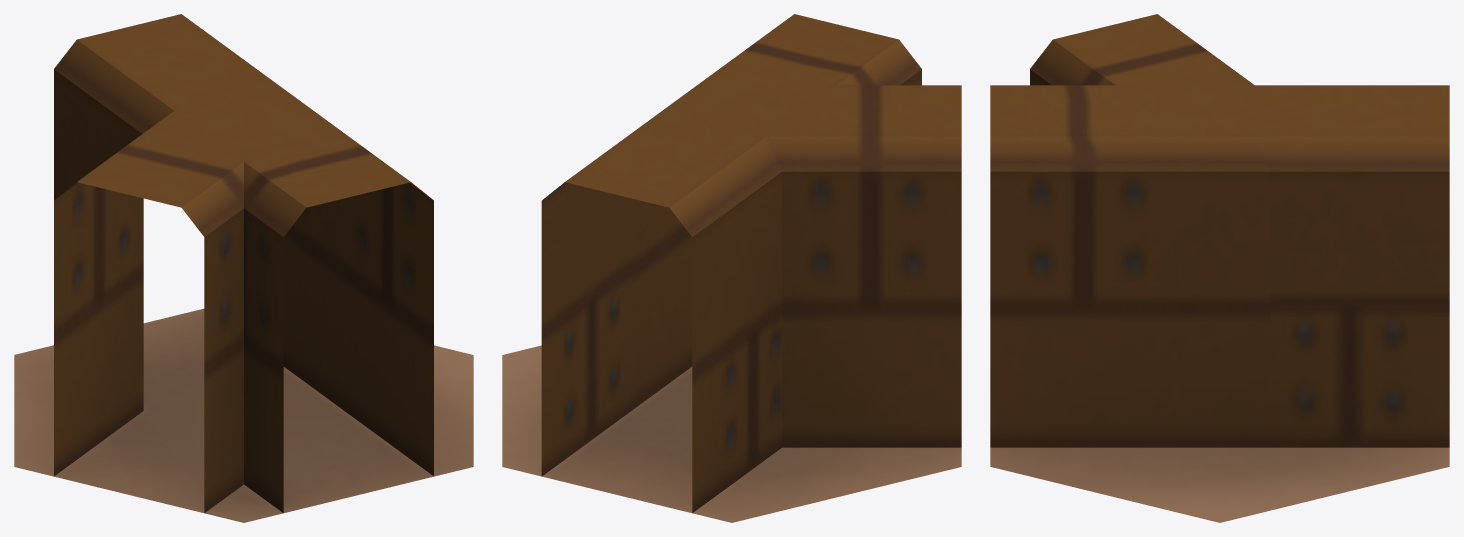
File: Barriere_YA.FBX
The picture shows the model from 3 angles, left to right: view 1: azimuth 30°, elevation 25°; view 2: azimuth 150°, elevation 25°; view 3: azimuth 270°, elevation 25°; orthographic projection.
Visible parts, largest first — view 1: Barriere_YA; view 2: Barriere_YA; view 3: Barriere_YA.
Part boxes in pixels (x1,y1,x2,y2): Barriere_YA: [14, 14, 473, 522]; Barriere_YA: [502, 14, 961, 522]; Barriere_YA: [990, 14, 1449, 522].
Bounding box in the file's own units: 1 × 0.6247 × 0.8663.
